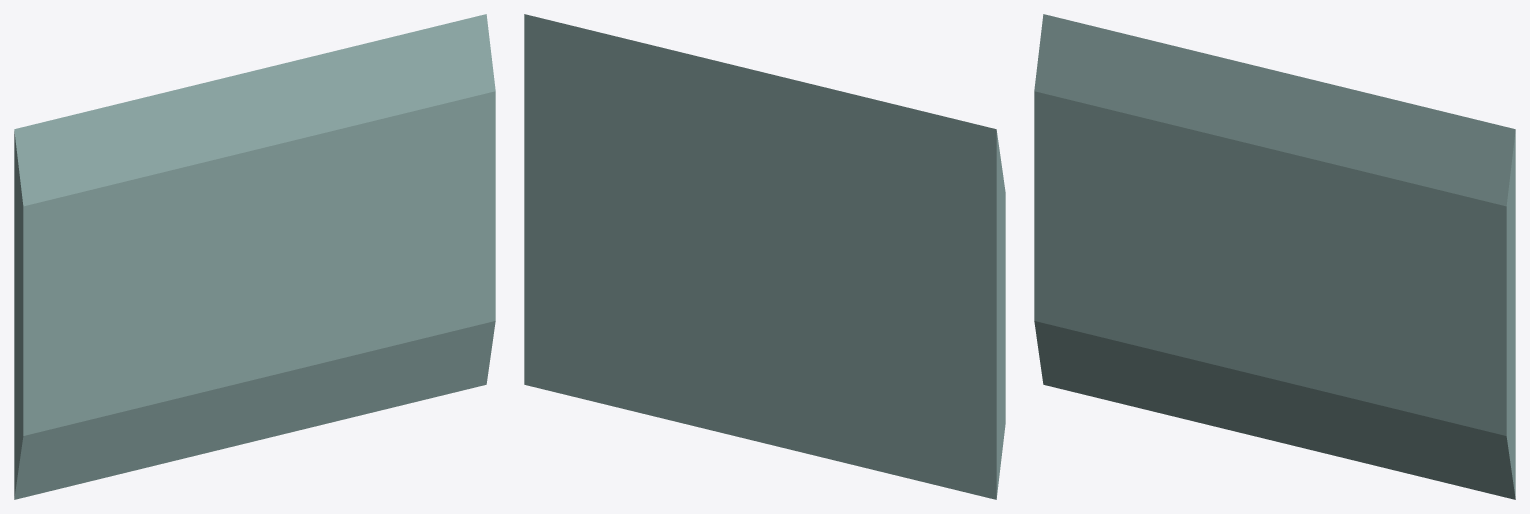
The model's file is BTrimCornerS.fbx.
The picture shows the model from 3 angles, left to right: view 1: azimuth 30°, elevation 25°; view 2: azimuth 150°, elevation 25°; view 3: azimuth 330°, elevation 25°; orthographic projection.
Parts seen in each view (by area): view 1: BTrimCornerS; view 2: BTrimCornerS; view 3: BTrimCornerS.
Part boxes in pixels (x1,y1,x2,y2): BTrimCornerS: (14,14,495,499); BTrimCornerS: (524,14,1005,499); BTrimCornerS: (1034,14,1515,499).
Size of the model in its own units: 200 by 150 by 6.67.
